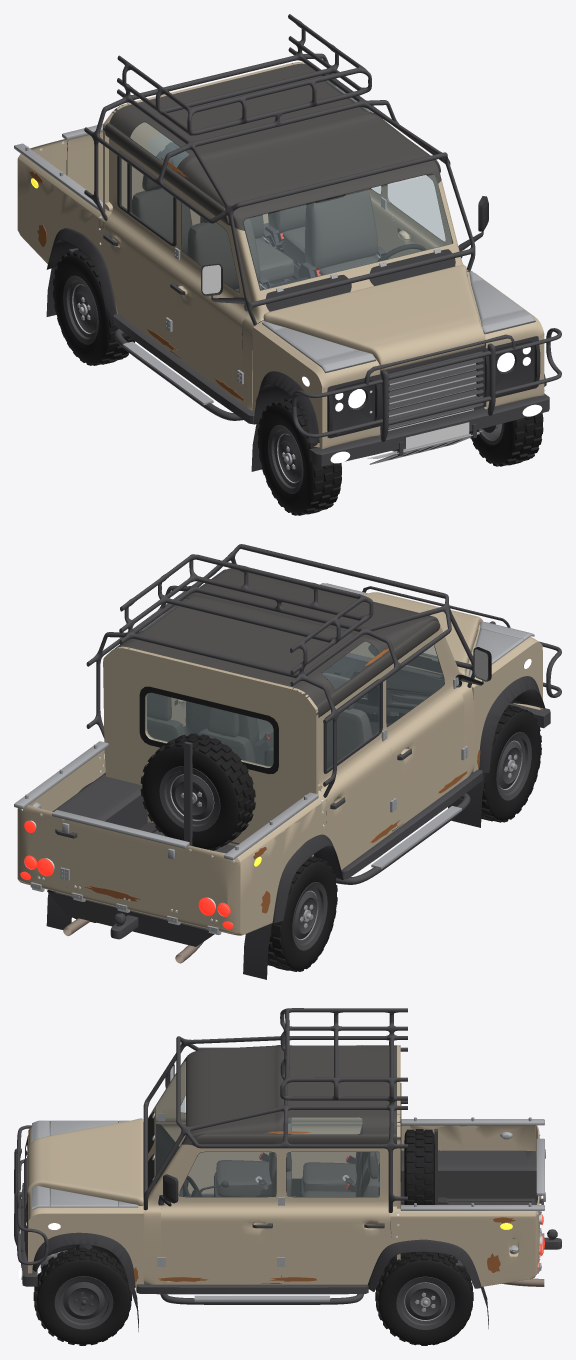
File: garilla-rig-pickup.glb
The picture shows the model from 3 angles, top to bottom: view 1: azimuth 30°, elevation 25°; view 2: azimuth 150°, elevation 25°; view 3: azimuth 270°, elevation 25°; orthographic projection. The views are drawn at different scales.
Visible parts, largest first — view 1: body__shell, body__front, gear__roof_rack, body__interior, body__hood, body__door_fr, body__door_rr, armor__bumper_front, wheel__fr, wheel__rr, body__door_fl, armor__sliders (+5 smaller); view 2: body__shell, gear__roof_rack, body__door_fr, wheel__spare, body__door_rr, body__interior, body__tailgate, body__front, wheel__rr, wheel__fr, armor__sliders, frame__ladder (+3 smaller); view 3: body__shell, body__door_fl, body__door_rl, gear__roof_rack, body__front, body__hood, wheel__fl, wheel__rl, body__interior, armor__sliders, wheel__spare, body__door_fr (+3 smaller).
Part boxes in pixels (x1,y1,x2,y2): body__shell: (14,62,468,413); body__front: (251,271,546,471); gear__roof_rack: (84,14,475,325); body__interior: (132,157,426,349); body__hood: (263,265,485,370); body__door_fr: (169,189,248,401); body__door_rr: (103,142,178,350); armor__bumper_front: (292,328,561,466); wheel__fr: (257,397,341,515); wheel__rr: (53,249,135,365); body__door_fl: (384,174,488,258); armor__sliders: (113,314,254,424); body__shell: (14,568,474,979); gear__roof_rack: (86,544,474,797); body__door_fr: (383,632,491,830); wheel__spare: (140,733,255,850); body__door_rr: (318,671,400,867); body__interior: (103,652,444,835); body__tailgate: (52,810,189,916); body__front: (320,583,545,827); wheel__rr: (267,856,337,971); wheel__fr: (481,704,541,822); armor__sliders: (335,769,482,884); frame__ladder: (47,822,239,946); body__shell: (143,1045,544,1328); body__door_fl: (157,1146,281,1283); body__door_rl: (269,1148,391,1283); gear__roof_rack: (143,1008,407,1212); body__front: (24,1120,143,1331); body__hood: (27,1118,143,1205); wheel__fl: (33,1247,131,1345); wheel__rl: (375,1252,473,1345); body__interior: (156,1117,391,1281); armor__sliders: (136,1193,368,1304); wheel__spare: (404,1129,437,1204); body__door_fr: (161,1064,269,1192).
Bounding box in the file's own units: 2.27 × 2.32 × 4.48.
